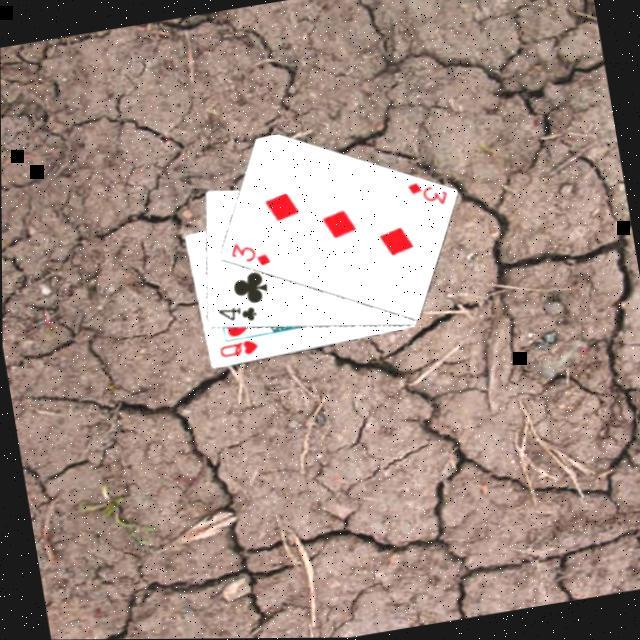3D: (402, 176, 450, 214), (225, 237, 273, 274)
4C: (212, 302, 259, 331)
QH: (213, 336, 260, 364)
